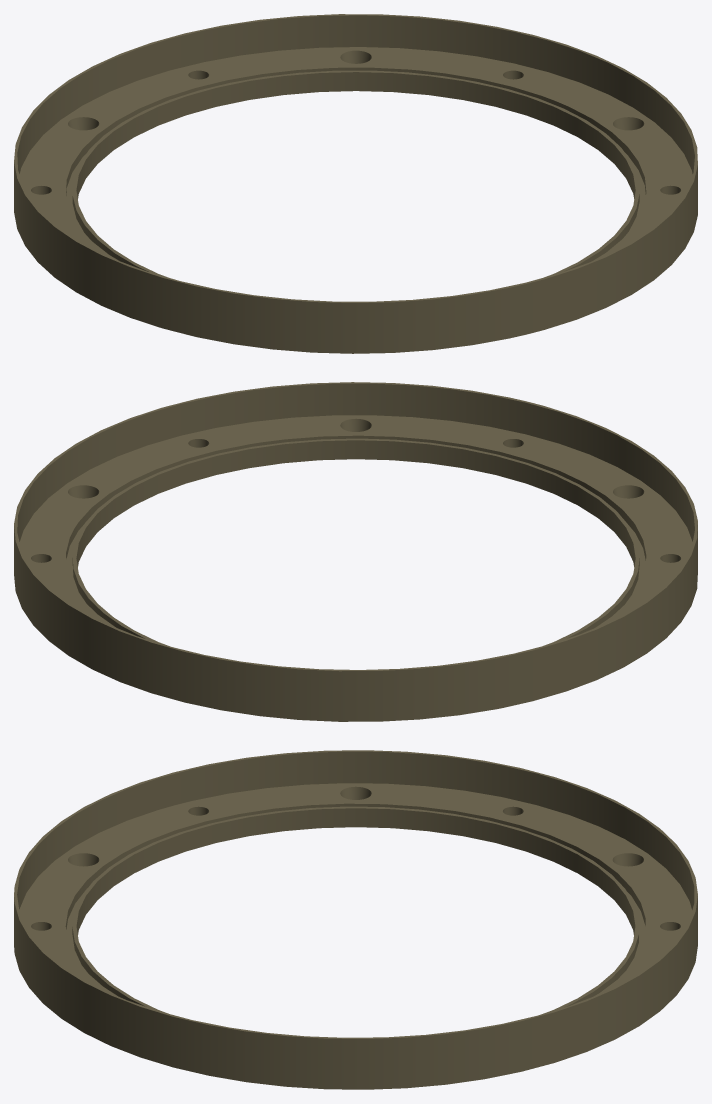
3 renders of one model, top to bottom at view 1: azimuth 30°, elevation 25°; view 2: azimuth 150°, elevation 25°; view 3: azimuth 270°, elevation 25°, orthographic.
Parts seen in each view (by area): view 1: 5-13.SLDPRT; view 2: 5-13.SLDPRT; view 3: 5-13.SLDPRT.
Part boxes in pixels (box(x1,y1,x2,y2)): 5-13.SLDPRT: box(14, 14, 697, 353); 5-13.SLDPRT: box(14, 382, 697, 721); 5-13.SLDPRT: box(14, 750, 697, 1089).
Bounding box in the file's own units: 0.3107 × 0.0254 × 0.3108.
